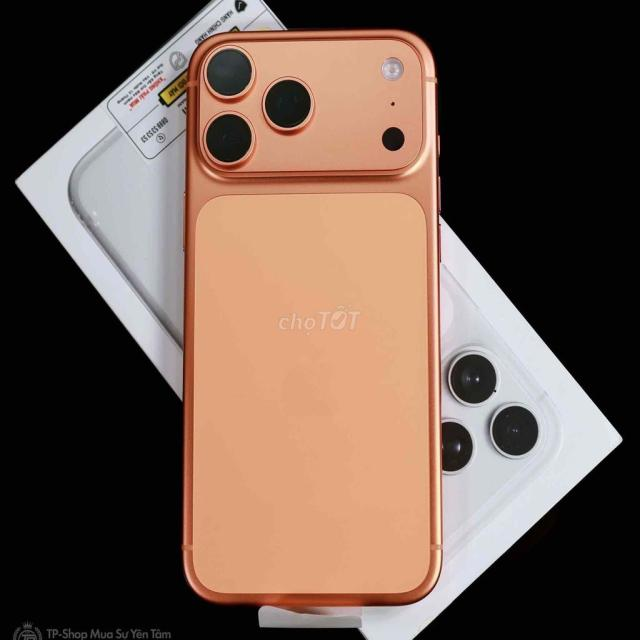gen_17: (182, 28, 454, 618)
